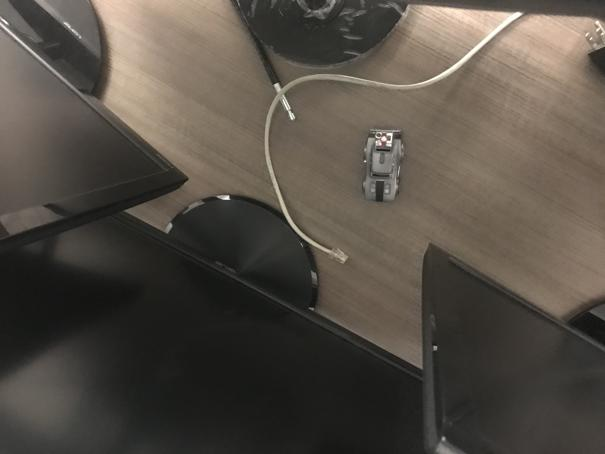Charger: (361, 128, 401, 203)
